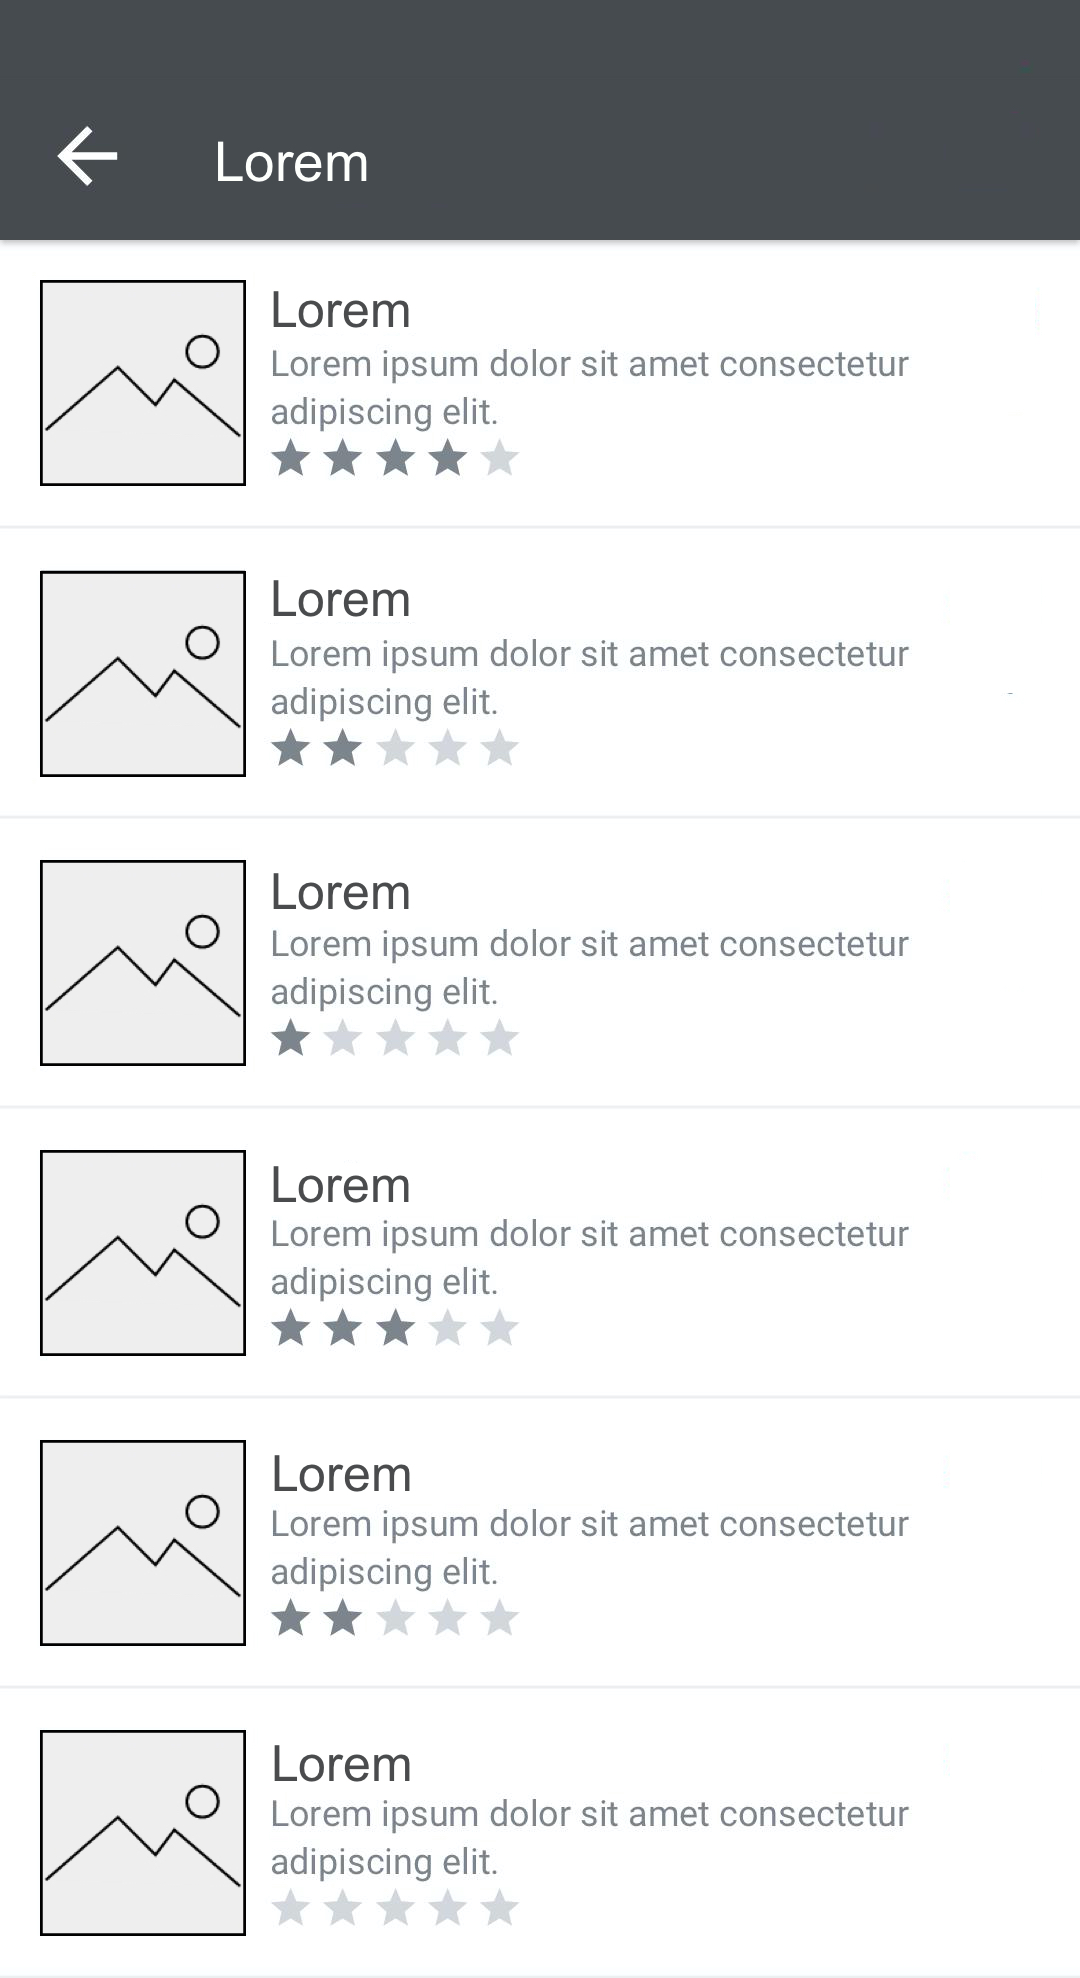Icon: (270, 1017, 521, 1058), (270, 1596, 520, 1638), (270, 1888, 521, 1927), (271, 728, 521, 768), (273, 439, 520, 479), (271, 1309, 519, 1347), (56, 126, 118, 187)
Image: (40, 1149, 247, 1357), (40, 280, 247, 488), (40, 570, 247, 778), (40, 1729, 247, 1937), (41, 859, 247, 1067), (41, 1440, 247, 1647)
Text: (273, 1797, 908, 1884), (270, 1509, 910, 1593), (271, 350, 908, 433), (273, 639, 910, 723), (273, 1219, 910, 1303), (270, 929, 908, 1012), (218, 141, 368, 183), (273, 580, 411, 619), (273, 1164, 410, 1204), (273, 291, 410, 330), (273, 872, 410, 911), (274, 1744, 411, 1783), (273, 1456, 411, 1493)
